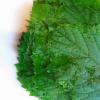grape leaf: (43, 21, 99, 99)
